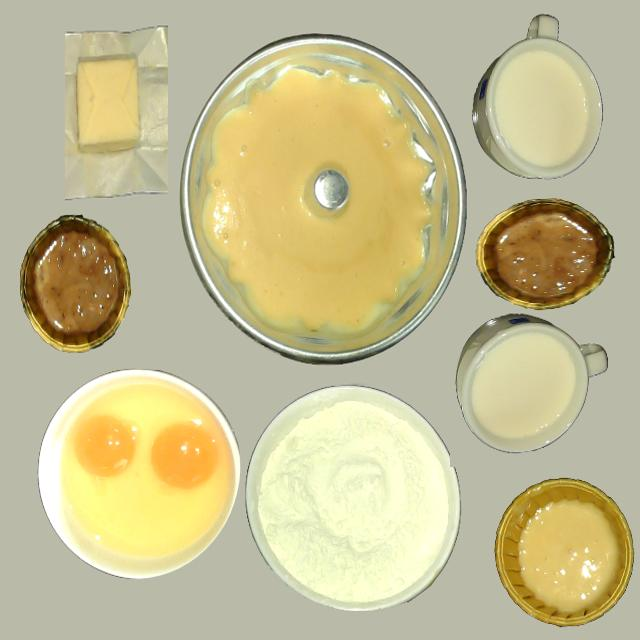Egg: (151, 422, 217, 489), (75, 414, 138, 478)
Flour: (243, 382, 455, 608)
Milk: (473, 15, 605, 182), (456, 314, 601, 456)
